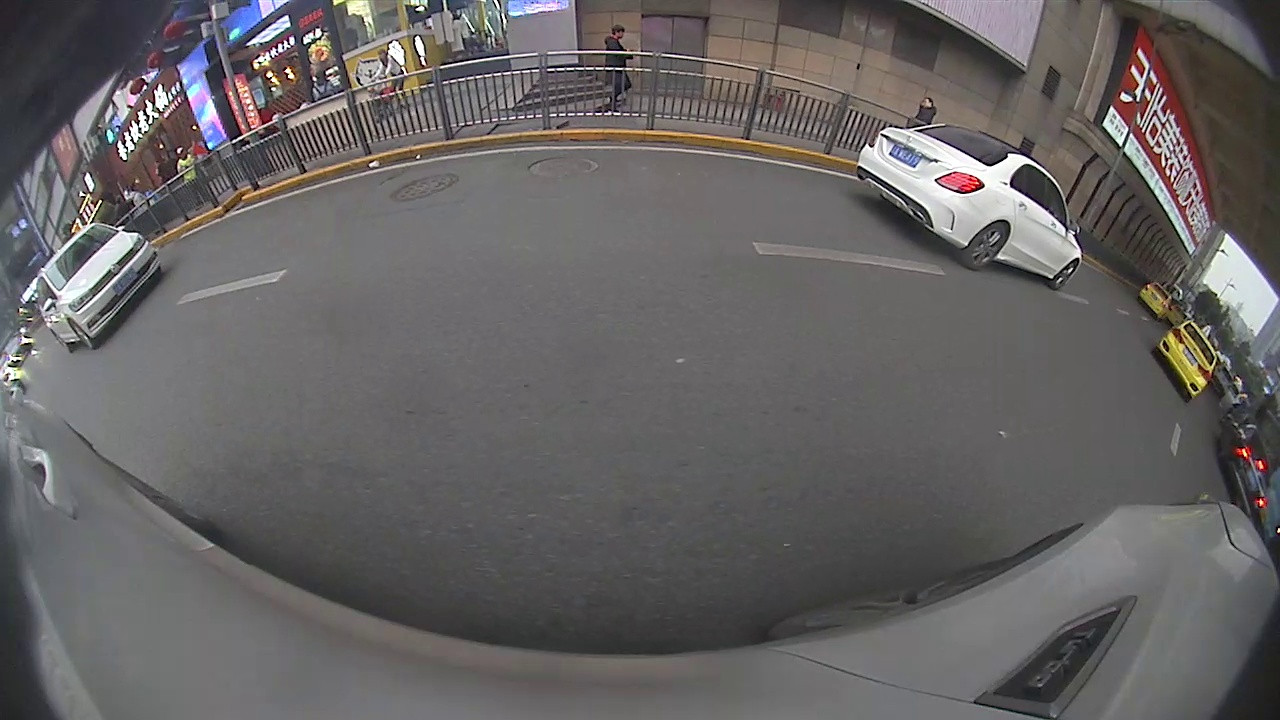car: (854, 123, 1083, 289), (33, 221, 166, 353), (1152, 318, 1222, 408), (1217, 415, 1273, 515), (1135, 278, 1174, 321)
front: (1052, 258, 1081, 291), (68, 319, 95, 353)
person: (594, 21, 633, 117)
rear: (965, 220, 1011, 271)
